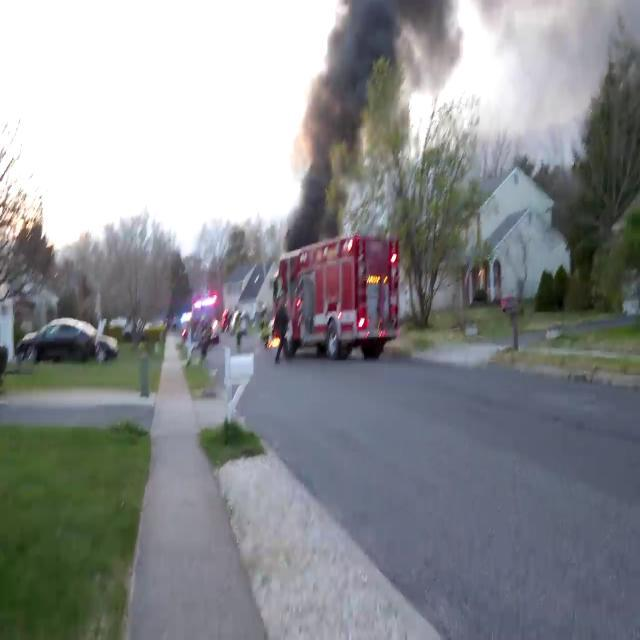Smoke: (291, 0, 454, 239)
